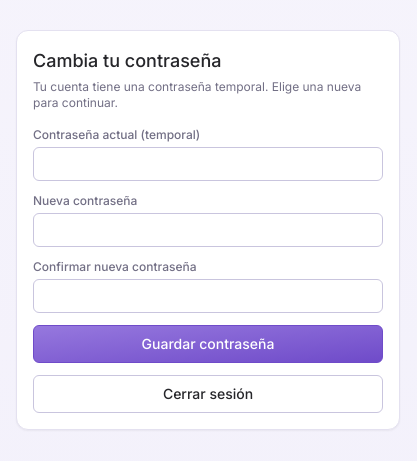
ChangePasswordPage › shows an error and does not submit when the new passwords do not match
Step 1. Type "Temp1234!" into the password field labelled "Contraseña actual (temporal)" → x=208, y=164, box [33,147,383,181]
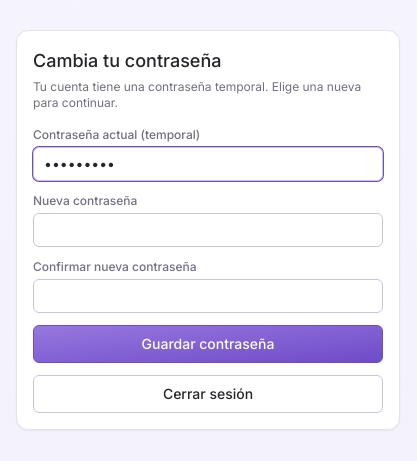
Step 2. Type "NuevaSecreta1!" into the password field labelled "Nueva contraseña" → x=208, y=230, box [33,213,383,247]
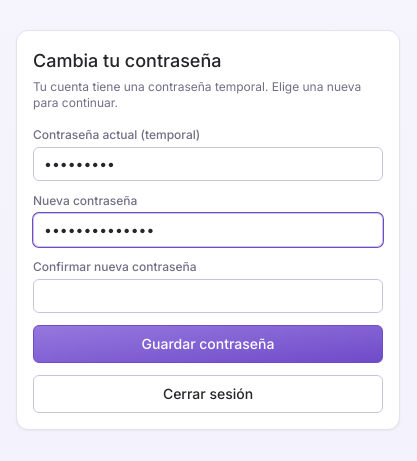
Step 3. Type "Distinta1!" into the password field labelled "Confirmar nueva contraseña" → x=208, y=296, box [33,279,383,313]
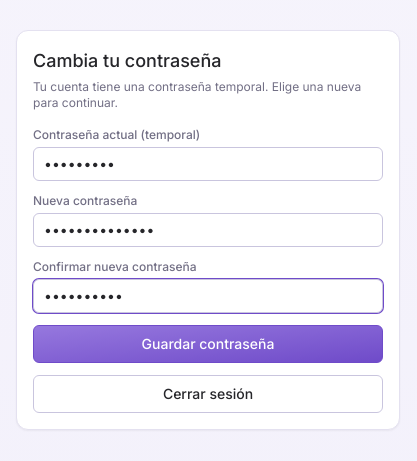
Step 4. Click the button "Guardar contraseña" → x=208, y=344, box [33,325,383,363]
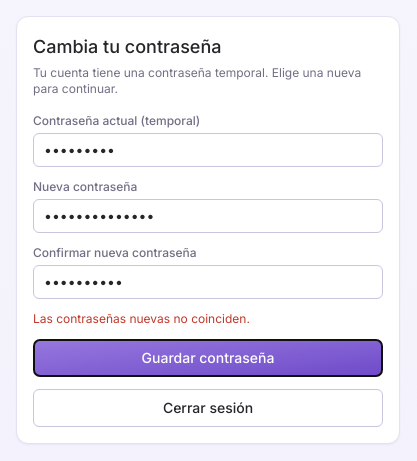
expect the text "Las contraseñas nuevas no coinciden." is shown: met, box [33,311,250,326]
